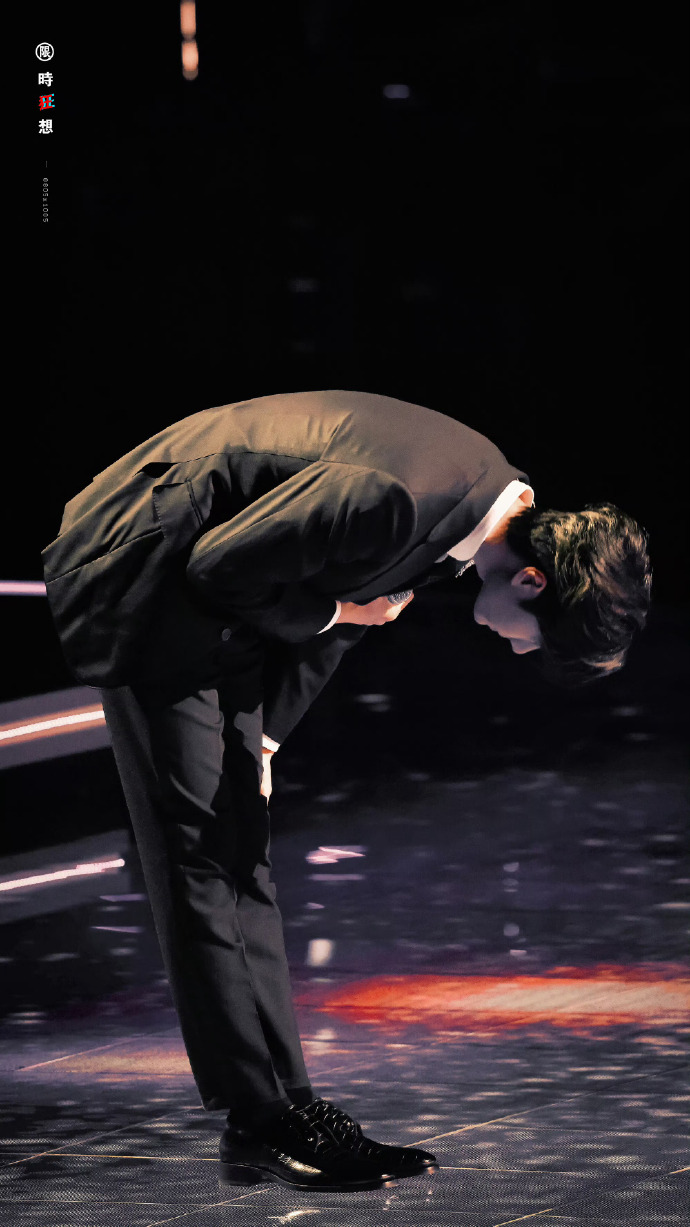bending: (37, 361, 661, 1215)
